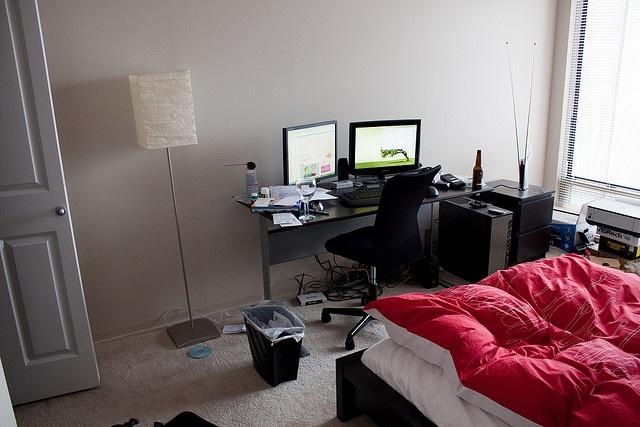AIO PC-Monitor-TV: (348, 117, 421, 182), (281, 119, 338, 188)
Kursi: (319, 163, 442, 350)
